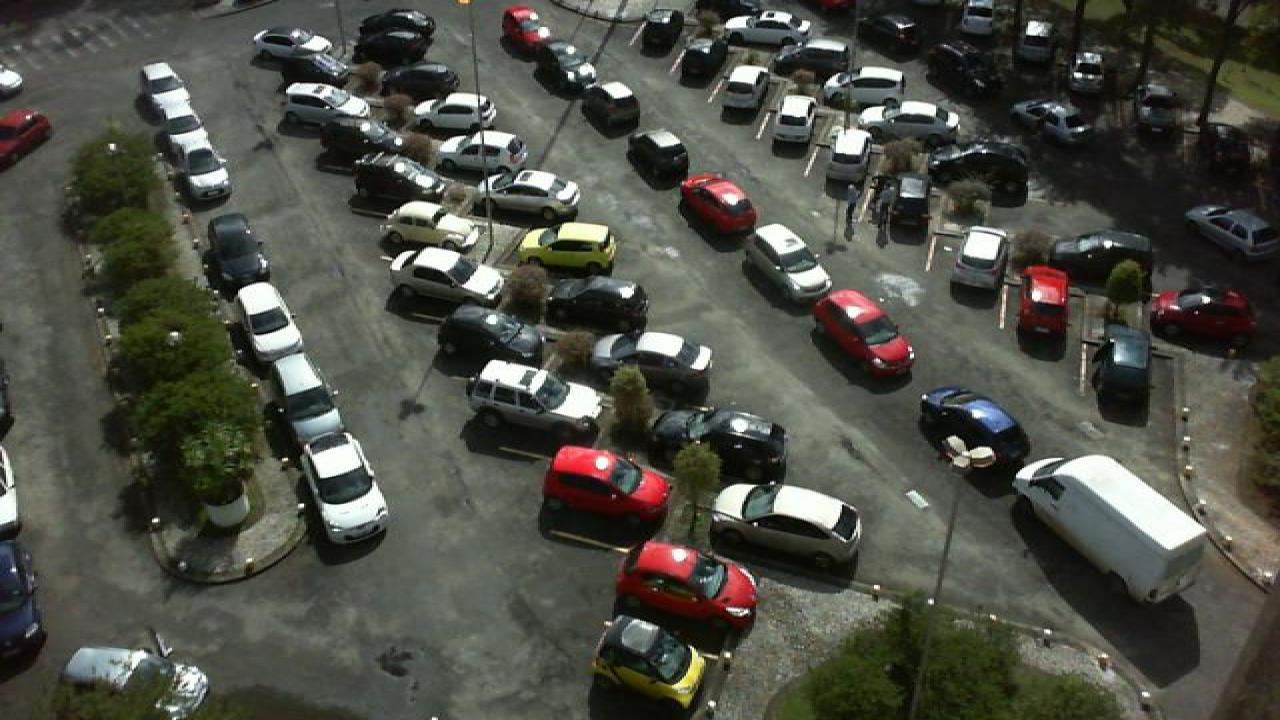Car: (612, 540, 758, 638), (710, 481, 864, 572), (590, 614, 708, 719), (462, 359, 608, 441), (58, 644, 212, 720), (648, 406, 790, 483), (538, 446, 676, 523), (920, 386, 1032, 479), (298, 437, 390, 544), (812, 287, 916, 376), (584, 330, 718, 394), (386, 246, 508, 308), (740, 222, 834, 301), (266, 352, 346, 442), (436, 304, 550, 366), (232, 280, 310, 361), (1146, 288, 1258, 344), (1038, 229, 1154, 282), (924, 140, 1032, 194), (546, 276, 652, 330), (352, 152, 454, 207), (678, 172, 760, 240), (1184, 202, 1280, 260), (516, 222, 620, 274), (378, 199, 482, 251), (1090, 324, 1154, 406), (484, 168, 584, 219), (204, 212, 272, 286), (164, 132, 232, 200), (1014, 264, 1070, 346), (856, 99, 960, 143), (314, 110, 402, 159), (140, 93, 210, 154), (278, 81, 372, 126), (952, 225, 1012, 295), (926, 45, 1010, 95), (622, 128, 690, 189), (438, 130, 528, 176), (1010, 99, 1098, 145), (408, 92, 498, 133), (718, 9, 814, 47), (578, 79, 644, 133), (528, 41, 596, 92), (826, 64, 908, 106), (376, 61, 462, 100), (760, 37, 848, 75), (248, 28, 338, 65), (846, 8, 920, 53), (816, 127, 872, 186), (882, 174, 932, 238), (764, 94, 818, 150), (136, 62, 192, 115), (354, 28, 434, 65), (358, 8, 438, 43), (676, 35, 728, 87), (500, 3, 554, 53), (720, 64, 770, 116), (640, 9, 686, 55), (1014, 18, 1058, 64), (952, 0, 1000, 39), (1068, 44, 1106, 93)
